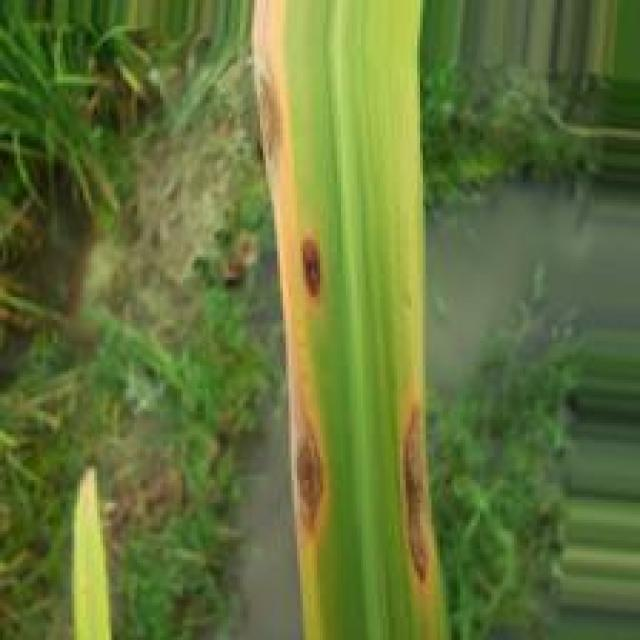Brown_Spot: (394, 397, 435, 596), (289, 405, 325, 545), (256, 59, 282, 166), (302, 233, 323, 306)
